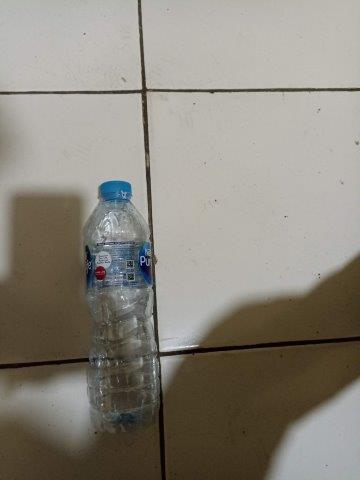botolplastik: (81, 179, 159, 435)
